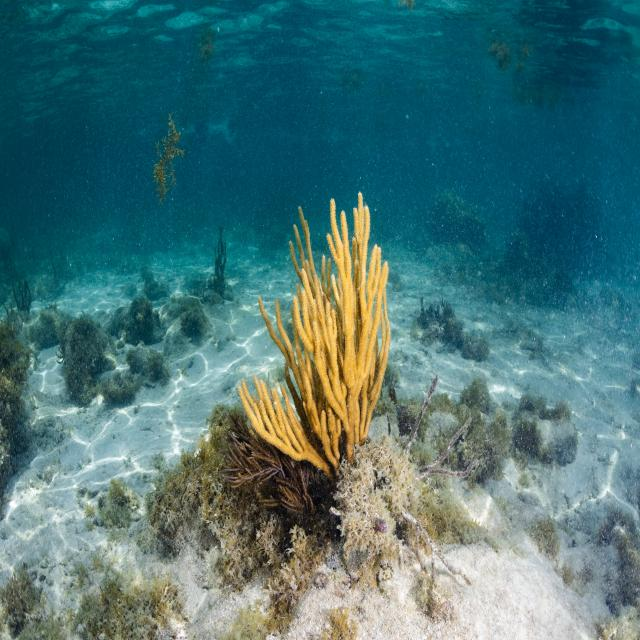Coral: (237, 192, 391, 484)
